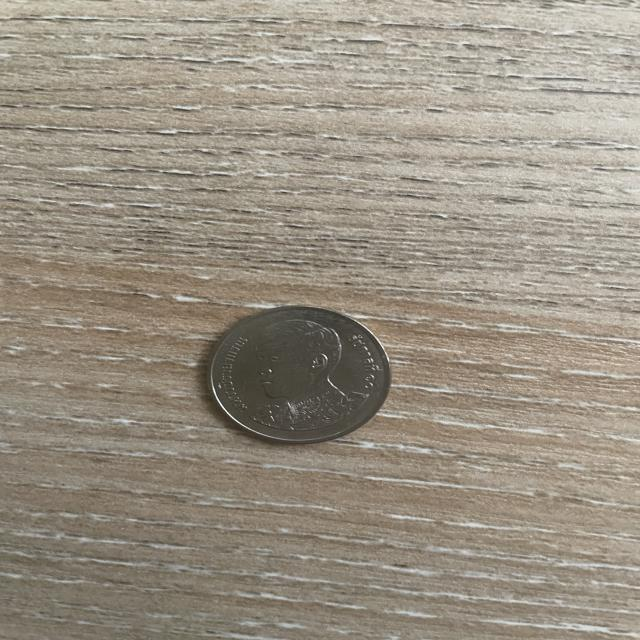1 Bath: (198, 298, 402, 453)
